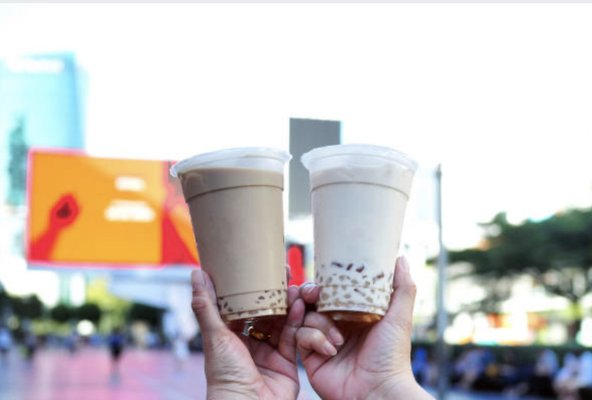pizza: (171, 146, 291, 342), (301, 144, 420, 328)
